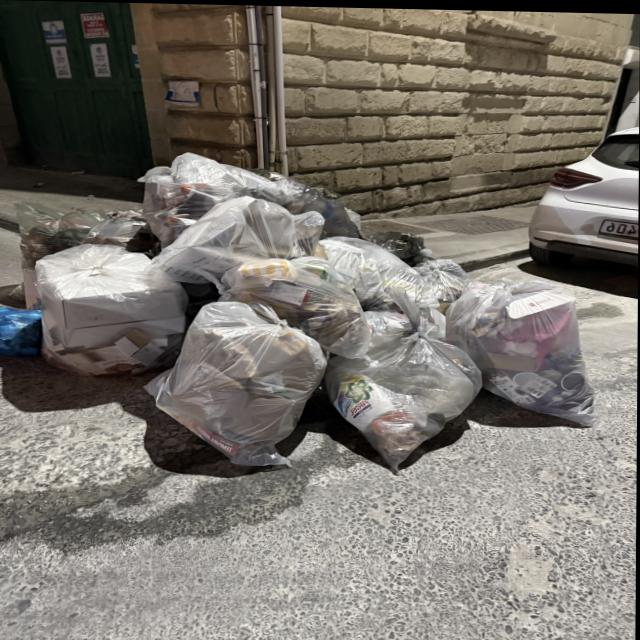Mixed Waste -Black Bags-: (246, 166, 429, 263)
Others Waste: (0, 203, 141, 356)
Recyclable Material -Grey Bags-: (35, 152, 604, 470)
